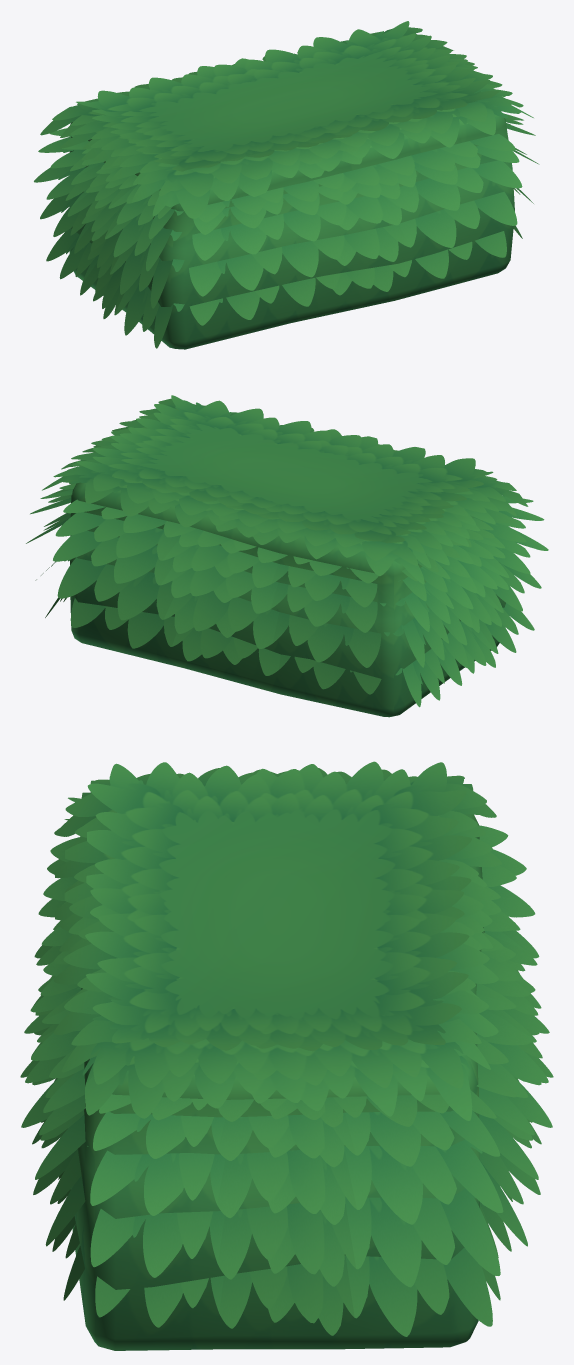
The model's file is hedge.fbx.
3 renders of one model, top to bottom at view 1: azimuth 30°, elevation 25°; view 2: azimuth 150°, elevation 25°; view 3: azimuth 270°, elevation 25°, orthographic. The views are drawn at different scales.
Visible parts, largest first — view 1: Hedge; view 2: Hedge; view 3: Hedge.
Boxes of the visible parts, left/top/right/bottom form: Hedge: left=34, top=21, right=539, bottom=349; Hedge: left=26, top=395, right=548, bottom=717; Hedge: left=20, top=761, right=553, bottom=1350.
Bounding box in the file's own units: 5.67 × 2.33 × 3.61.
Materials: 1 (1 with a texture image).
